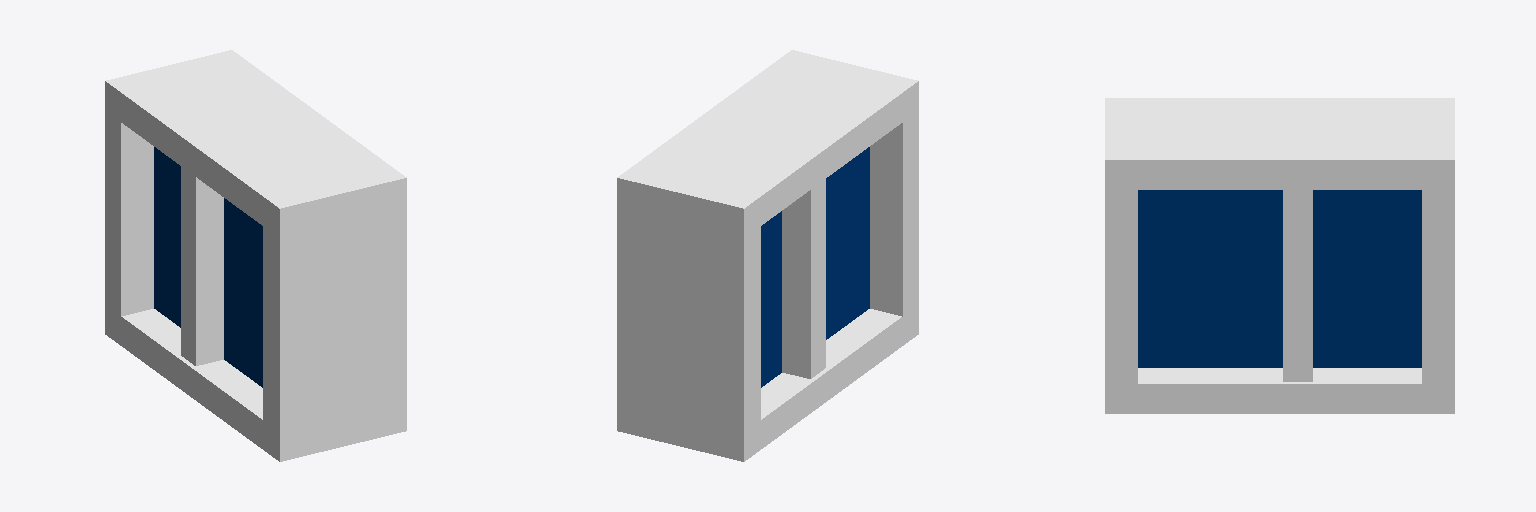
Rendered from window.obj.
3 renders of one model, left to right at view 1: azimuth 30°, elevation 25°; view 2: azimuth 150°, elevation 25°; view 3: azimuth 270°, elevation 25°, orthographic.
Parts seen in each view (by area): view 1: Cube; view 2: Cube; view 3: Cube.
Part boxes in pixels (bbox=[...]): Cube: bbox=[105, 50, 406, 461]; Cube: bbox=[617, 50, 918, 461]; Cube: bbox=[1105, 98, 1454, 413].
Bounding box in the file's own units: 2.1 × 4 × 5.